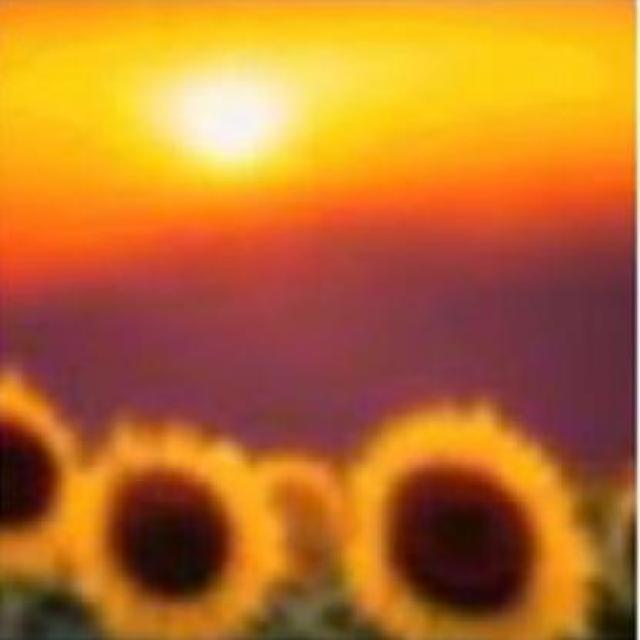sunflower: (338, 395, 592, 640), (68, 426, 270, 640)
